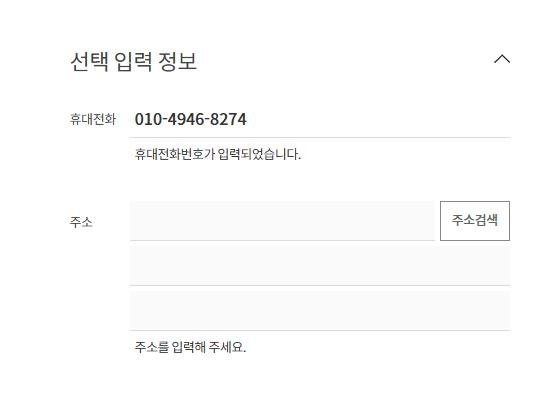button: (442, 203, 514, 238)
input_field: (128, 291, 506, 331), (126, 248, 504, 284), (130, 108, 509, 138), (127, 204, 432, 238)
